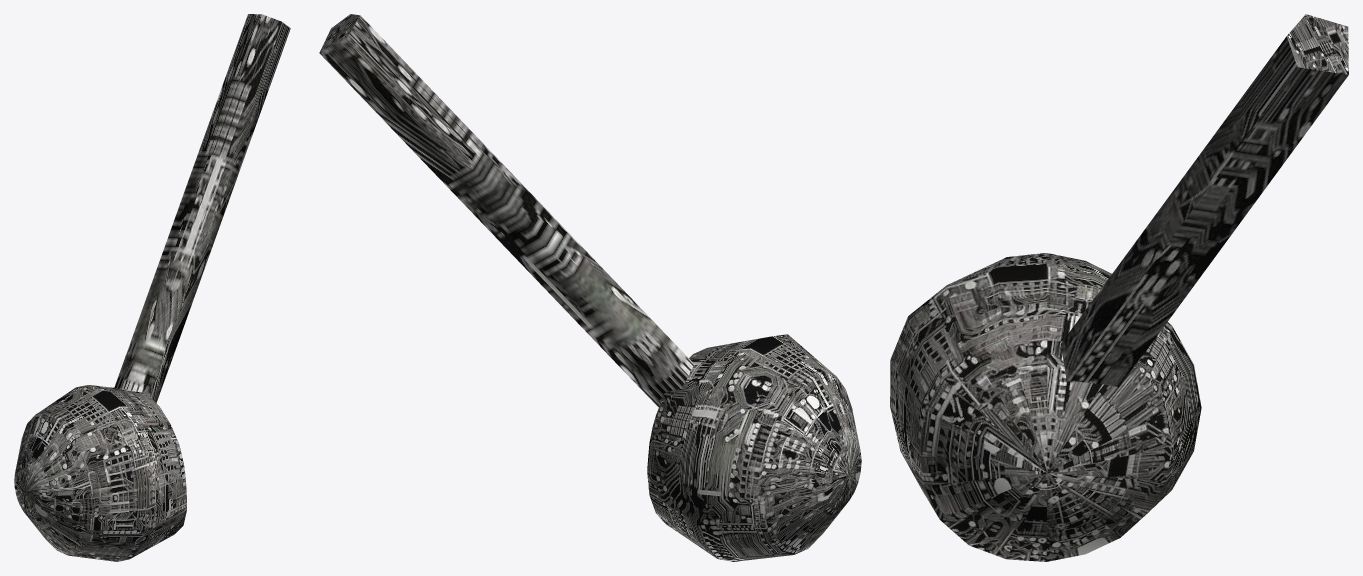
File: spire.obj
3 renders of one model, left to right at view 1: azimuth 30°, elevation 25°; view 2: azimuth 150°, elevation 25°; view 3: azimuth 270°, elevation 25°, orthographic. The views are drawn at different scales.
Parts seen in each view (by area): view 1: ColorSwitcher; view 2: ColorSwitcher; view 3: ColorSwitcher.
Part boxes in pixels (x1,y1,x2,y2): ColorSwitcher: [14, 14, 290, 561]; ColorSwitcher: [319, 14, 861, 561]; ColorSwitcher: [890, 14, 1348, 561].
Bounding box in the file's own units: 4.34 × 5.22 × 2.97.
1 material, 1 textured.
